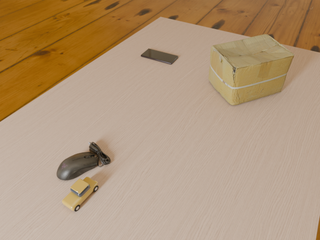box: (209, 34, 294, 105)
mouse: (57, 142, 110, 180)
phone: (141, 49, 178, 64)
toy_car: (62, 177, 98, 211)
